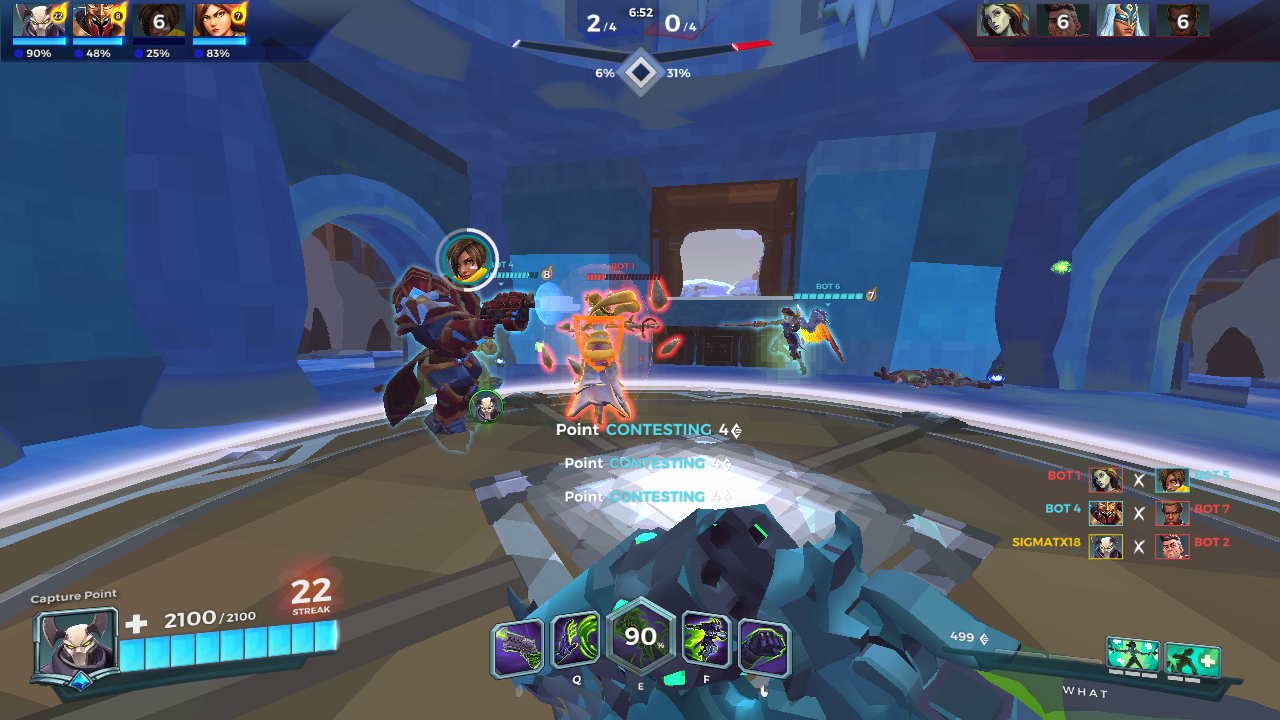model: (569, 282, 635, 426)
